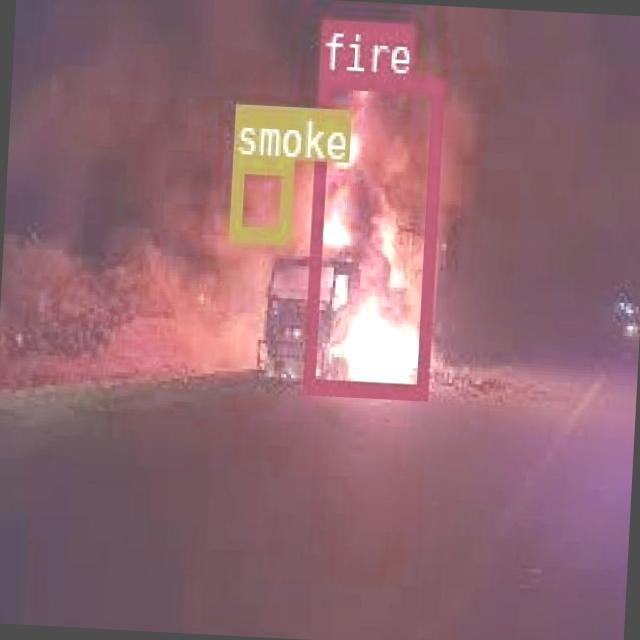fire: (300, 70, 442, 396)
smoke: (228, 156, 292, 242)
